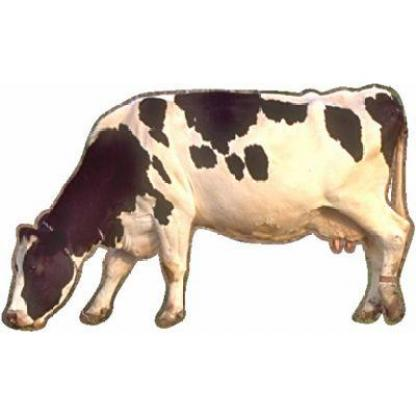cow: (4, 88, 405, 332)
